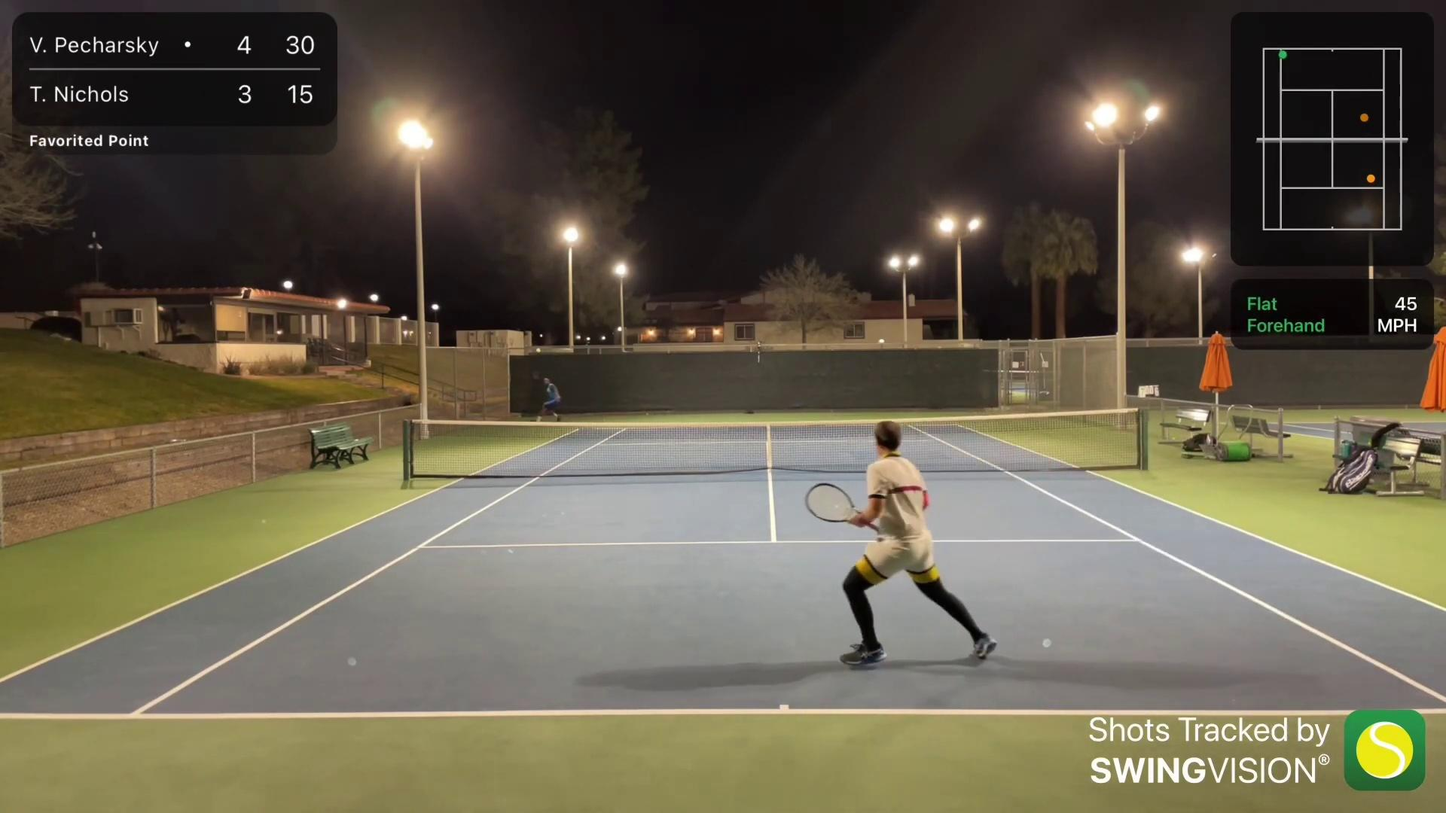ball: (535, 347, 541, 353)
